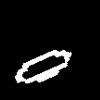chain: (15, 50, 70, 82)
